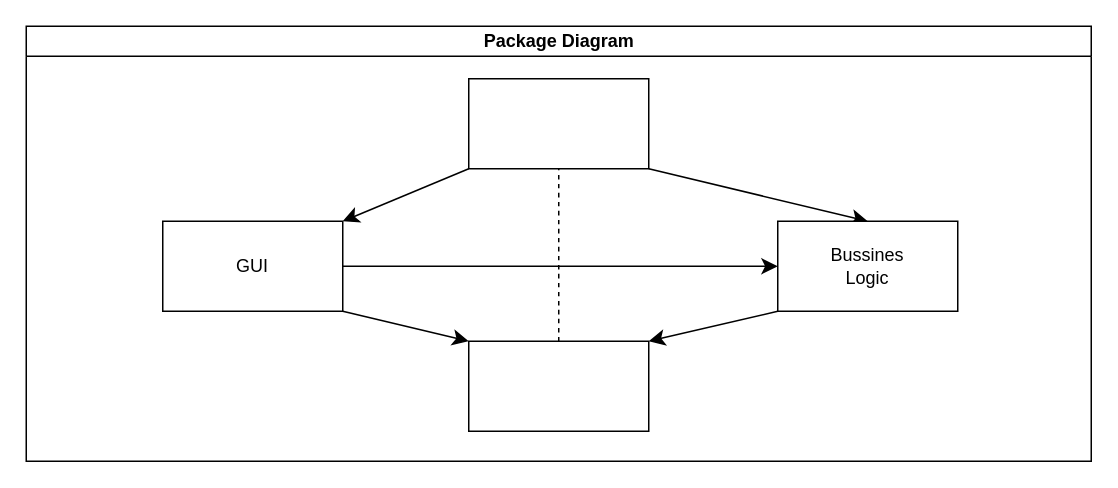
Some shapes in this 1118 by 488 pixel diagram are drawn without their labels. Each missing label, with the centre of its shape:
"Data Model" belongs at point 558,385.
"Final App" belongs at point 558,123.
